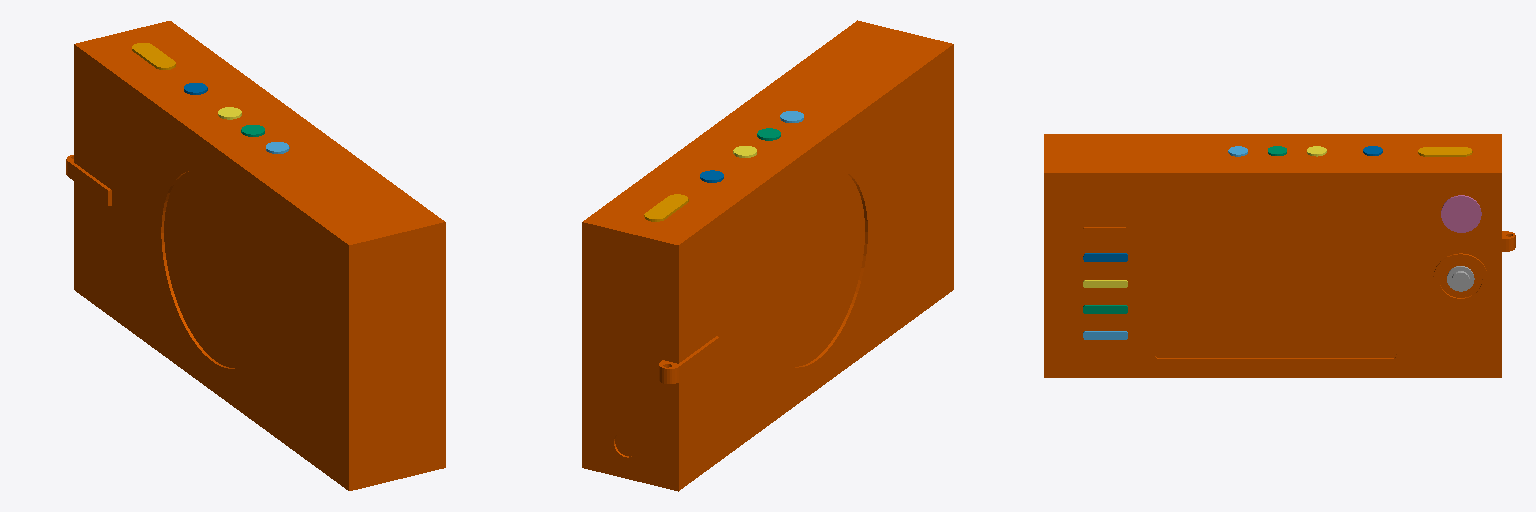
robot.urdf — partnet_5334cfe15f80099f15ac67104577aee7:
<?xml version="1.0" ?>
<robot name="partnet_5334cfe15f80099f15ac67104577aee7">
	<link name="base"/>
	<link name="link_0">
		<visual name="button-4">
			<origin xyz="-0.6133975 0.253107 0"/>
			<geometry>
				<mesh filename="textured_objs/original-14.obj"/>
			</geometry>
		</visual>
		<visual name="button-4">
			<origin xyz="-0.6133975 0.253107 0"/>
			<geometry>
				<mesh filename="textured_objs/original-24.obj"/>
			</geometry>
		</visual>
		<collision>
			<origin xyz="-0.6133975 0.253107 0"/>
			<geometry>
				<mesh filename="textured_objs/original-14.obj"/>
			</geometry>
		</collision>
		<collision>
			<origin xyz="-0.6133975 0.253107 0"/>
			<geometry>
				<mesh filename="textured_objs/original-24.obj"/>
			</geometry>
		</collision>
	</link>
	<joint name="joint_0" type="prismatic">
		<origin xyz="0.6133975 -0.253107 0"/>
		<axis xyz="0 0 1"/>
		<child link="link_0"/>
		<parent link="link_12"/>
		<limit lower="0" upper="0.01200000000000001"/>
	</joint>
	<link name="link_1">
		<visual name="button-5">
			<origin xyz="-0.6133975 0.253107 0"/>
			<geometry>
				<mesh filename="textured_objs/original-16.obj"/>
			</geometry>
		</visual>
		<visual name="button-5">
			<origin xyz="-0.6133975 0.253107 0"/>
			<geometry>
				<mesh filename="textured_objs/original-25.obj"/>
			</geometry>
		</visual>
		<collision>
			<origin xyz="-0.6133975 0.253107 0"/>
			<geometry>
				<mesh filename="textured_objs/original-16.obj"/>
			</geometry>
		</collision>
		<collision>
			<origin xyz="-0.6133975 0.253107 0"/>
			<geometry>
				<mesh filename="textured_objs/original-25.obj"/>
			</geometry>
		</collision>
	</link>
	<joint name="joint_1" type="prismatic">
		<origin xyz="0.6133975 -0.253107 0"/>
		<axis xyz="0 0 1"/>
		<child link="link_1"/>
		<parent link="link_12"/>
		<limit lower="0" upper="0.01200000000000001"/>
	</joint>
	<link name="link_2">
		<visual name="button-6">
			<origin xyz="0 0 0"/>
			<geometry>
				<mesh filename="textured_objs/original-20.obj"/>
			</geometry>
		</visual>
		<visual name="button-6">
			<origin xyz="0 0 0"/>
			<geometry>
				<mesh filename="textured_objs/original-27.obj"/>
			</geometry>
		</visual>
		<collision>
			<origin xyz="0 0 0"/>
			<geometry>
				<mesh filename="textured_objs/original-20.obj"/>
			</geometry>
		</collision>
		<collision>
			<origin xyz="0 0 0"/>
			<geometry>
				<mesh filename="textured_objs/original-27.obj"/>
			</geometry>
		</collision>
	</link>
	<joint name="joint_2" type="prismatic">
		<origin xyz="0 0 0"/>
		<axis xyz="0 0 1"/>
		<child link="link_2"/>
		<parent link="link_12"/>
		<limit lower="0" upper="0.01200000000000001"/>
	</joint>
	<link name="link_3">
		<visual name="button-7">
			<origin xyz="0 0 0"/>
			<geometry>
				<mesh filename="textured_objs/original-22.obj"/>
			</geometry>
		</visual>
		<visual name="button-7">
			<origin xyz="0 0 0"/>
			<geometry>
				<mesh filename="textured_objs/original-28.obj"/>
			</geometry>
		</visual>
		<collision>
			<origin xyz="0 0 0"/>
			<geometry>
				<mesh filename="textured_objs/original-22.obj"/>
			</geometry>
		</collision>
		<collision>
			<origin xyz="0 0 0"/>
			<geometry>
				<mesh filename="textured_objs/original-28.obj"/>
			</geometry>
		</collision>
	</link>
	<joint name="joint_3" type="prismatic">
		<origin xyz="0 0 0"/>
		<axis xyz="0 0 1"/>
		<child link="link_3"/>
		<parent link="link_12"/>
		<limit lower="0" upper="0.01200000000000001"/>
	</joint>
	<link name="link_4">
		<visual name="button-8">
			<origin xyz="0 0 0"/>
			<geometry>
				<mesh filename="textured_objs/original-18.obj"/>
			</geometry>
		</visual>
		<visual name="button-8">
			<origin xyz="0 0 0"/>
			<geometry>
				<mesh filename="textured_objs/original-26.obj"/>
			</geometry>
		</visual>
		<collision>
			<origin xyz="0 0 0"/>
			<geometry>
				<mesh filename="textured_objs/original-18.obj"/>
			</geometry>
		</collision>
		<collision>
			<origin xyz="0 0 0"/>
			<geometry>
				<mesh filename="textured_objs/original-26.obj"/>
			</geometry>
		</collision>
	</link>
	<joint name="joint_4" type="prismatic">
		<origin xyz="0 0 0"/>
		<axis xyz="0 0 1"/>
		<child link="link_4"/>
		<parent link="link_12"/>
		<limit lower="0" upper="0.01200000000000001"/>
	</joint>
	<link name="link_5">
		<visual name="button-9">
			<origin xyz="0.7454118666024406 -0.257232 0"/>
			<geometry>
				<mesh filename="textured_objs/original-19.obj"/>
			</geometry>
		</visual>
		<visual name="button-9">
			<origin xyz="0.7454118666024406 -0.257232 0"/>
			<geometry>
				<mesh filename="textured_objs/original-48.obj"/>
			</geometry>
		</visual>
		<collision>
			<origin xyz="0.7454118666024406 -0.257232 0"/>
			<geometry>
				<mesh filename="textured_objs/original-19.obj"/>
			</geometry>
		</collision>
		<collision>
			<origin xyz="0.7454118666024406 -0.257232 0"/>
			<geometry>
				<mesh filename="textured_objs/original-48.obj"/>
			</geometry>
		</collision>
	</link>
	<joint name="joint_5" type="prismatic">
		<origin xyz="-0.7454118666024406 0.257232 0"/>
		<axis xyz="0 0 1"/>
		<child link="link_5"/>
		<parent link="link_12"/>
		<limit lower="0" upper="0.008000000000000007"/>
	</joint>
	<link name="link_6">
		<visual name="button-10">
			<origin xyz="0.7454118666024406 -0.257232 0"/>
			<geometry>
				<mesh filename="textured_objs/original-52.obj"/>
			</geometry>
		</visual>
		<visual name="button-10">
			<origin xyz="0.7454118666024406 -0.257232 0"/>
			<geometry>
				<mesh filename="textured_objs/original-50.obj"/>
			</geometry>
		</visual>
		<visual name="button-10">
			<origin xyz="0.7454118666024406 -0.257232 0"/>
			<geometry>
				<mesh filename="textured_objs/original-21.obj"/>
			</geometry>
		</visual>
		<visual name="button-10">
			<origin xyz="0.7454118666024406 -0.257232 0"/>
			<geometry>
				<mesh filename="textured_objs/original-49.obj"/>
			</geometry>
		</visual>
		<collision>
			<origin xyz="0.7454118666024406 -0.257232 0"/>
			<geometry>
				<mesh filename="textured_objs/original-52.obj"/>
			</geometry>
		</collision>
		<collision>
			<origin xyz="0.7454118666024406 -0.257232 0"/>
			<geometry>
				<mesh filename="textured_objs/original-50.obj"/>
			</geometry>
		</collision>
		<collision>
			<origin xyz="0.7454118666024406 -0.257232 0"/>
			<geometry>
				<mesh filename="textured_objs/original-21.obj"/>
			</geometry>
		</collision>
		<collision>
			<origin xyz="0.7454118666024406 -0.257232 0"/>
			<geometry>
				<mesh filename="textured_objs/original-49.obj"/>
			</geometry>
		</collision>
	</link>
	<joint name="joint_6" type="prismatic">
		<origin xyz="-0.7454118666024406 0.257232 0"/>
		<axis xyz="0 0 1"/>
		<child link="link_6"/>
		<parent link="link_12"/>
		<limit lower="0" upper="0.02400000000000002"/>
	</joint>
	<link name="link_7">
		<visual name="button-11">
			<origin xyz="0 0 0"/>
			<geometry>
				<mesh filename="textured_objs/original-8.obj"/>
			</geometry>
		</visual>
		<visual name="button-11">
			<origin xyz="0 0 0"/>
			<geometry>
				<mesh filename="textured_objs/original-36.obj"/>
			</geometry>
		</visual>
		<collision>
			<origin xyz="0 0 0"/>
			<geometry>
				<mesh filename="textured_objs/original-8.obj"/>
			</geometry>
		</collision>
		<collision>
			<origin xyz="0 0 0"/>
			<geometry>
				<mesh filename="textured_objs/original-36.obj"/>
			</geometry>
		</collision>
	</link>
	<joint name="joint_7" type="prismatic">
		<origin xyz="0 0 0"/>
		<axis xyz="0 -1 0"/>
		<child link="link_7"/>
		<parent link="link_12"/>
		<limit lower="0" upper="0.008000000000000007"/>
	</joint>
	<link name="link_8">
		<visual name="button-12">
			<origin xyz="0 0 0"/>
			<geometry>
				<mesh filename="textured_objs/original-5.obj"/>
			</geometry>
		</visual>
		<visual name="button-12">
			<origin xyz="0 0 0"/>
			<geometry>
				<mesh filename="textured_objs/original-43.obj"/>
			</geometry>
		</visual>
		<visual name="button-12">
			<origin xyz="0 0 0"/>
			<geometry>
				<mesh filename="textured_objs/original-34.obj"/>
			</geometry>
		</visual>
		<collision>
			<origin xyz="0 0 0"/>
			<geometry>
				<mesh filename="textured_objs/original-5.obj"/>
			</geometry>
		</collision>
		<collision>
			<origin xyz="0 0 0"/>
			<geometry>
				<mesh filename="textured_objs/original-43.obj"/>
			</geometry>
		</collision>
		<collision>
			<origin xyz="0 0 0"/>
			<geometry>
				<mesh filename="textured_objs/original-34.obj"/>
			</geometry>
		</collision>
	</link>
	<joint name="joint_8" type="prismatic">
		<origin xyz="0 0 0"/>
		<axis xyz="0 -1 0"/>
		<child link="link_8"/>
		<parent link="link_12"/>
		<limit lower="0" upper="0.008000000000000007"/>
	</joint>
	<link name="link_9">
		<visual name="button-13">
			<origin xyz="0 0 0"/>
			<geometry>
				<mesh filename="textured_objs/original-7.obj"/>
			</geometry>
		</visual>
		<visual name="button-13">
			<origin xyz="0 0 0"/>
			<geometry>
				<mesh filename="textured_objs/original-44.obj"/>
			</geometry>
		</visual>
		<visual name="button-13">
			<origin xyz="0 0 0"/>
			<geometry>
				<mesh filename="textured_objs/original-35.obj"/>
			</geometry>
		</visual>
		<collision>
			<origin xyz="0 0 0"/>
			<geometry>
				<mesh filename="textured_objs/original-7.obj"/>
			</geometry>
		</collision>
		<collision>
			<origin xyz="0 0 0"/>
			<geometry>
				<mesh filename="textured_objs/original-44.obj"/>
			</geometry>
		</collision>
		<collision>
			<origin xyz="0 0 0"/>
			<geometry>
				<mesh filename="textured_objs/original-35.obj"/>
			</geometry>
		</collision>
	</link>
	<joint name="joint_9" type="prismatic">
		<origin xyz="0 0 0"/>
		<axis xyz="0 -1 0"/>
		<child link="link_9"/>
		<parent link="link_12"/>
		<limit lower="0" upper="0.008000000000000007"/>
	</joint>
	<link name="link_10">
		<visual name="button-14">
			<origin xyz="0 0 0"/>
			<geometry>
				<mesh filename="textured_objs/original-10.obj"/>
			</geometry>
		</visual>
		<visual name="button-14">
			<origin xyz="0 0 0"/>
			<geometry>
				<mesh filename="textured_objs/original-37.obj"/>
			</geometry>
		</visual>
		<visual name="button-14">
			<origin xyz="0 0 0"/>
			<geometry>
				<mesh filename="textured_objs/original-45.obj"/>
			</geometry>
		</visual>
		<collision>
			<origin xyz="0 0 0"/>
			<geometry>
				<mesh filename="textured_objs/original-10.obj"/>
			</geometry>
		</collision>
		<collision>
			<origin xyz="0 0 0"/>
			<geometry>
				<mesh filename="textured_objs/original-37.obj"/>
			</geometry>
		</collision>
		<collision>
			<origin xyz="0 0 0"/>
			<geometry>
				<mesh filename="textured_objs/original-45.obj"/>
			</geometry>
		</collision>
	</link>
	<joint name="joint_10" type="prismatic">
		<origin xyz="0 0 0"/>
		<axis xyz="0 -1 0"/>
		<child link="link_10"/>
		<parent link="link_12"/>
		<limit lower="0" upper="0.008000000000000007"/>
	</joint>
	<link name="link_11">
		<visual name="button-15">
			<origin xyz="0 0 0"/>
			<geometry>
				<mesh filename="textured_objs/original-11.obj"/>
			</geometry>
		</visual>
		<visual name="button-15">
			<origin xyz="0 0 0"/>
			<geometry>
				<mesh filename="textured_objs/original-38.obj"/>
			</geometry>
		</visual>
		<collision>
			<origin xyz="0 0 0"/>
			<geometry>
				<mesh filename="textured_objs/original-11.obj"/>
			</geometry>
		</collision>
		<collision>
			<origin xyz="0 0 0"/>
			<geometry>
				<mesh filename="textured_objs/original-38.obj"/>
			</geometry>
		</collision>
	</link>
	<joint name="joint_11" type="prismatic">
		<origin xyz="0 0 0"/>
		<axis xyz="0 -1 0"/>
		<child link="link_11"/>
		<parent link="link_12"/>
		<limit lower="0" upper="0.008000000000000007"/>
	</joint>
	<link name="link_12">
		<visual name="base_body-16">
			<origin xyz="0 0 0"/>
			<geometry>
				<mesh filename="textured_objs/original-29.obj"/>
			</geometry>
		</visual>
		<visual name="base_body-16">
			<origin xyz="0 0 0"/>
			<geometry>
				<mesh filename="textured_objs/original-30.obj"/>
			</geometry>
		</visual>
		<visual name="base_body-16">
			<origin xyz="0 0 0"/>
			<geometry>
				<mesh filename="textured_objs/original-41.obj"/>
			</geometry>
		</visual>
		<visual name="base_body-16">
			<origin xyz="0 0 0"/>
			<geometry>
				<mesh filename="textured_objs/original-4.obj"/>
			</geometry>
		</visual>
		<visual name="base_body-16">
			<origin xyz="0 0 0"/>
			<geometry>
				<mesh filename="textured_objs/original-3.obj"/>
			</geometry>
		</visual>
		<visual name="base_body-16">
			<origin xyz="0 0 0"/>
			<geometry>
				<mesh filename="textured_objs/original-33.obj"/>
			</geometry>
		</visual>
		<visual name="base_body-16">
			<origin xyz="0 0 0"/>
			<geometry>
				<mesh filename="textured_objs/original-2.obj"/>
			</geometry>
		</visual>
		<visual name="base_body-16">
			<origin xyz="0 0 0"/>
			<geometry>
				<mesh filename="textured_objs/original-13.obj"/>
			</geometry>
		</visual>
		<visual name="base_body-16">
			<origin xyz="0 0 0"/>
			<geometry>
				<mesh filename="textured_objs/original-9.obj"/>
			</geometry>
		</visual>
		<visual name="base_body-16">
			<origin xyz="0 0 0"/>
			<geometry>
				<mesh filename="textured_objs/original-39.obj"/>
			</geometry>
		</visual>
		<visual name="base_body-16">
			<origin xyz="0 0 0"/>
			<geometry>
				<mesh filename="textured_objs/original-51.obj"/>
			</geometry>
		</visual>
		<visual name="base_body-16">
			<origin xyz="0 0 0"/>
			<geometry>
				<mesh filename="textured_objs/original-6.obj"/>
			</geometry>
		</visual>
		<visual name="base_body-16">
			<origin xyz="0 0 0"/>
			<geometry>
				<mesh filename="textured_objs/original-31.obj"/>
			</geometry>
		</visual>
		<visual name="base_body-16">
			<origin xyz="0 0 0"/>
			<geometry>
				<mesh filename="textured_objs/original-15.obj"/>
			</geometry>
		</visual>
		<visual name="base_body-16">
			<origin xyz="0 0 0"/>
			<geometry>
				<mesh filename="textured_objs/original-23.obj"/>
			</geometry>
		</visual>
		<visual name="base_body-16">
			<origin xyz="0 0 0"/>
			<geometry>
				<mesh filename="textured_objs/original-17.obj"/>
			</geometry>
		</visual>
		<visual name="base_body-16">
			<origin xyz="0 0 0"/>
			<geometry>
				<mesh filename="textured_objs/original-12.obj"/>
			</geometry>
		</visual>
		<visual name="base_body-16">
			<origin xyz="0 0 0"/>
			<geometry>
				<mesh filename="textured_objs/original-42.obj"/>
			</geometry>
		</visual>
		<visual name="base_body-16">
			<origin xyz="0 0 0"/>
			<geometry>
				<mesh filename="textured_objs/original-32.obj"/>
			</geometry>
		</visual>
		<visual name="base_body-16">
			<origin xyz="0 0 0"/>
			<geometry>
				<mesh filename="textured_objs/original-47.obj"/>
			</geometry>
		</visual>
		<visual name="base_body-16">
			<origin xyz="0 0 0"/>
			<geometry>
				<mesh filename="textured_objs/original-1.obj"/>
			</geometry>
		</visual>
		<visual name="base_body-16">
			<origin xyz="0 0 0"/>
			<geometry>
				<mesh filename="textured_objs/original-40.obj"/>
			</geometry>
		</visual>
		<visual name="base_body-16">
			<origin xyz="0 0 0"/>
			<geometry>
				<mesh filename="textured_objs/original-46.obj"/>
			</geometry>
		</visual>
		<collision>
			<origin xyz="0 0 0"/>
			<geometry>
				<mesh filename="textured_objs/original-29.obj"/>
			</geometry>
		</collision>
		<collision>
			<origin xyz="0 0 0"/>
			<geometry>
				<mesh filename="textured_objs/original-30.obj"/>
			</geometry>
		</collision>
		<collision>
			<origin xyz="0 0 0"/>
			<geometry>
				<mesh filename="textured_objs/original-41.obj"/>
			</geometry>
		</collision>
		<collision>
			<origin xyz="0 0 0"/>
			<geometry>
				<mesh filename="textured_objs/original-4.obj"/>
			</geometry>
		</collision>
		<collision>
			<origin xyz="0 0 0"/>
			<geometry>
				<mesh filename="textured_objs/original-3.obj"/>
			</geometry>
		</collision>
		<collision>
			<origin xyz="0 0 0"/>
			<geometry>
				<mesh filename="textured_objs/original-33.obj"/>
			</geometry>
		</collision>
		<collision>
			<origin xyz="0 0 0"/>
			<geometry>
				<mesh filename="textured_objs/original-2.obj"/>
			</geometry>
		</collision>
		<collision>
			<origin xyz="0 0 0"/>
			<geometry>
				<mesh filename="textured_objs/original-13.obj"/>
			</geometry>
		</collision>
		<collision>
			<origin xyz="0 0 0"/>
			<geometry>
				<mesh filename="textured_objs/original-9.obj"/>
			</geometry>
		</collision>
		<collision>
			<origin xyz="0 0 0"/>
			<geometry>
				<mesh filename="textured_objs/original-39.obj"/>
			</geometry>
		</collision>
		<collision>
			<origin xyz="0 0 0"/>
			<geometry>
				<mesh filename="textured_objs/original-51.obj"/>
			</geometry>
		</collision>
		<collision>
			<origin xyz="0 0 0"/>
			<geometry>
				<mesh filename="textured_objs/original-6.obj"/>
			</geometry>
		</collision>
		<collision>
			<origin xyz="0 0 0"/>
			<geometry>
				<mesh filename="textured_objs/original-31.obj"/>
			</geometry>
		</collision>
		<collision>
			<origin xyz="0 0 0"/>
			<geometry>
				<mesh filename="textured_objs/original-15.obj"/>
			</geometry>
		</collision>
		<collision>
			<origin xyz="0 0 0"/>
			<geometry>
				<mesh filename="textured_objs/original-23.obj"/>
			</geometry>
		</collision>
		<collision>
			<origin xyz="0 0 0"/>
			<geometry>
				<mesh filename="textured_objs/original-17.obj"/>
			</geometry>
		</collision>
		<collision>
			<origin xyz="0 0 0"/>
			<geometry>
				<mesh filename="textured_objs/original-12.obj"/>
			</geometry>
		</collision>
		<collision>
			<origin xyz="0 0 0"/>
			<geometry>
				<mesh filename="textured_objs/original-42.obj"/>
			</geometry>
		</collision>
		<collision>
			<origin xyz="0 0 0"/>
			<geometry>
				<mesh filename="textured_objs/original-32.obj"/>
			</geometry>
		</collision>
		<collision>
			<origin xyz="0 0 0"/>
			<geometry>
				<mesh filename="textured_objs/original-47.obj"/>
			</geometry>
		</collision>
		<collision>
			<origin xyz="0 0 0"/>
			<geometry>
				<mesh filename="textured_objs/original-1.obj"/>
			</geometry>
		</collision>
		<collision>
			<origin xyz="0 0 0"/>
			<geometry>
				<mesh filename="textured_objs/original-40.obj"/>
			</geometry>
		</collision>
		<collision>
			<origin xyz="0 0 0"/>
			<geometry>
				<mesh filename="textured_objs/original-46.obj"/>
			</geometry>
		</collision>
	</link>
	<joint name="joint_12" type="fixed">
		<origin rpy="1.570796326794897 0 -1.570796326794897" xyz="0 0 0"/>
		<child link="link_12"/>
		<parent link="base"/>
	</joint>
</robot>

--- What the picture shows (computed from the rendered views, not written in the file) ---
3 views of the same robot in one strip: view 1: azimuth 30°, elevation 25°; view 2: azimuth 150°, elevation 25°; view 3: azimuth 270°, elevation 25° (orthographic).
Model partnet_5334cfe15f80099f15ac67104577aee7 with 14 links and 13 joints (12 prismatic, 1 fixed), rooted at base, posed all joints at 0.
Links seen in each view (by area): view 1: link_12, link_7; view 2: link_12, link_7; view 3: link_12, link_5, link_6.
Link boxes in pixels (x1,y1,x2,y2): link_12: (66, 21, 445, 490); link_7: (132, 43, 175, 69); link_12: (582, 20, 953, 491); link_7: (644, 194, 688, 221); link_12: (1044, 134, 1515, 377); link_5: (1441, 195, 1481, 232); link_6: (1447, 266, 1474, 291).
Size in the robot's own frame: 0.3875 by 1.8 by 0.8702 metres.
Meshes: 52 distinct files referenced, 52 mesh visuals loaded (52 OBJ).